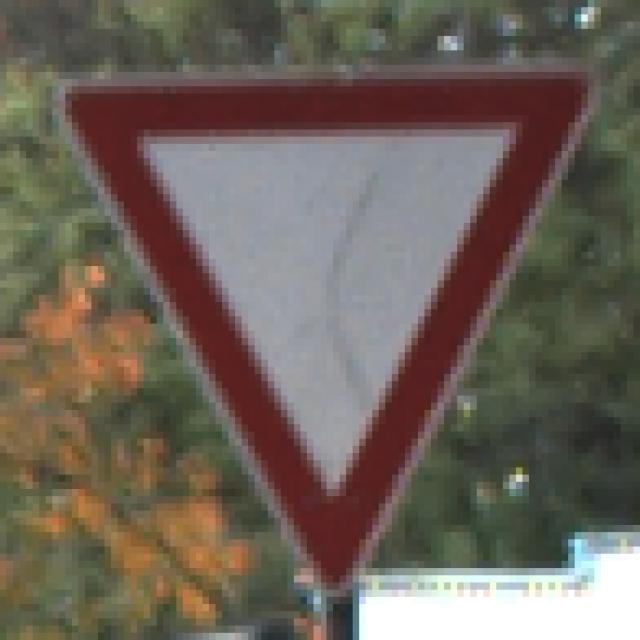Give Way: (53, 52, 589, 584)
